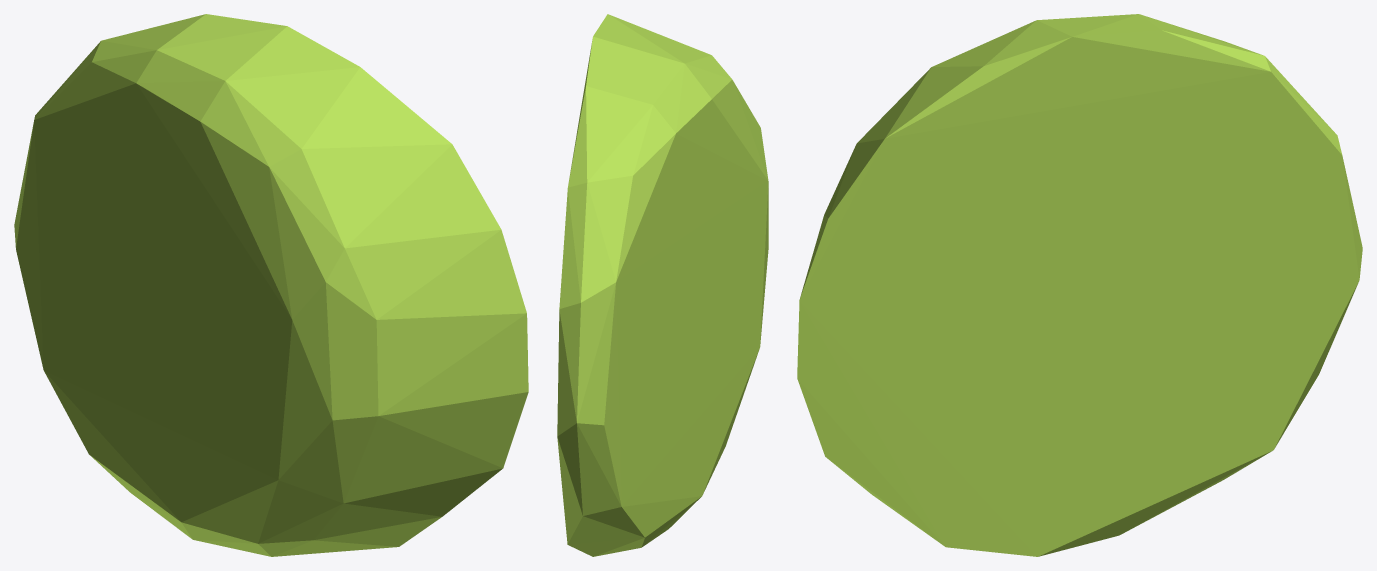
The model's file is industrial_06397_link_2_respondable_respondable_respondable_respondable_respondable_respondable_coll_1.dae.
The picture shows the model from 3 angles, left to right: view 1: azimuth 30°, elevation 25°; view 2: azimuth 150°, elevation 25°; view 3: azimuth 270°, elevation 25°; orthographic projection. The views are drawn at different scales.
Visible parts, largest first — view 1: node; view 2: node; view 3: node.
Boxes of the visible parts, <box> form: node: <box>14,14,528,556</box>; node: <box>557,14,768,556</box>; node: <box>797,14,1362,556</box>.
Bounding box in the file's own units: 0.0606 × 0.1209 × 0.1208.
